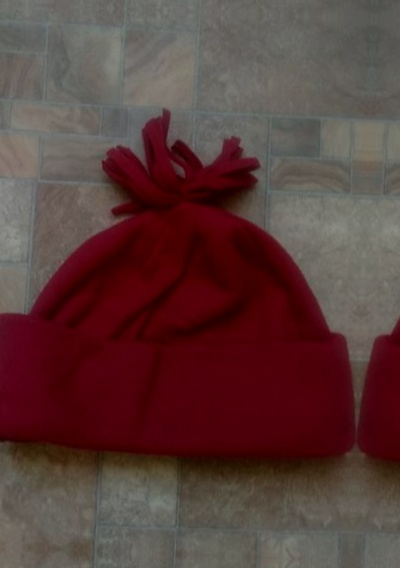Hat: (0, 121, 365, 469), (360, 138, 400, 485)
